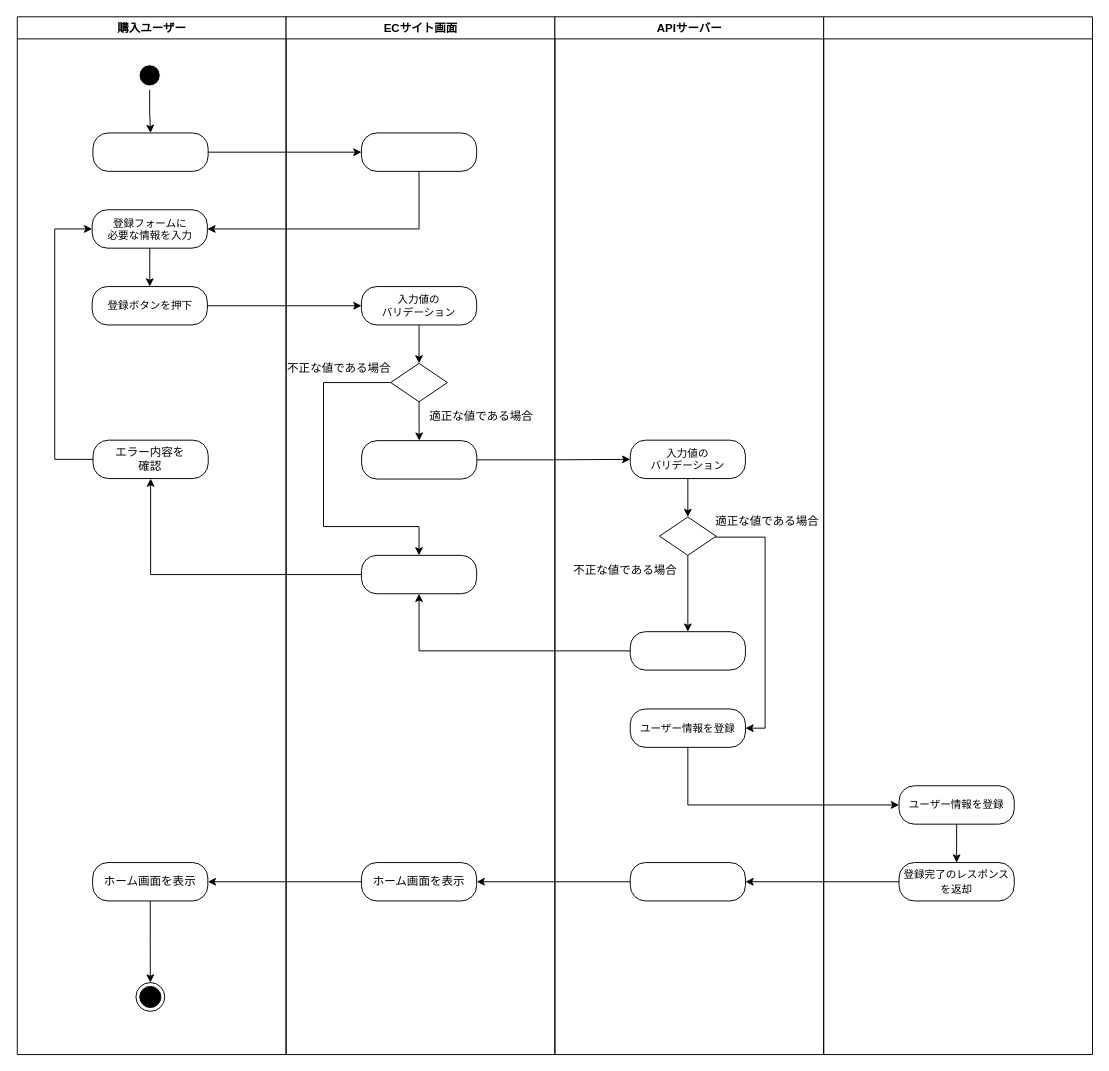
Image size: 1109x1071. Some labels were removed from this diagram. Each missing label, with the box of its shape:
エラーを返却: (629, 631, 745, 670)
エラー内容を表示: (360, 554, 477, 594)
データベース: (823, 16, 1092, 1055)
ユーザー登録 APIリクエストを送信: (361, 440, 477, 479)
新規登録画面に アクセス: (92, 132, 208, 171)
新規登録画面を表示: (360, 132, 477, 171)
登録完了のレスポンス を返却: (629, 862, 745, 901)
